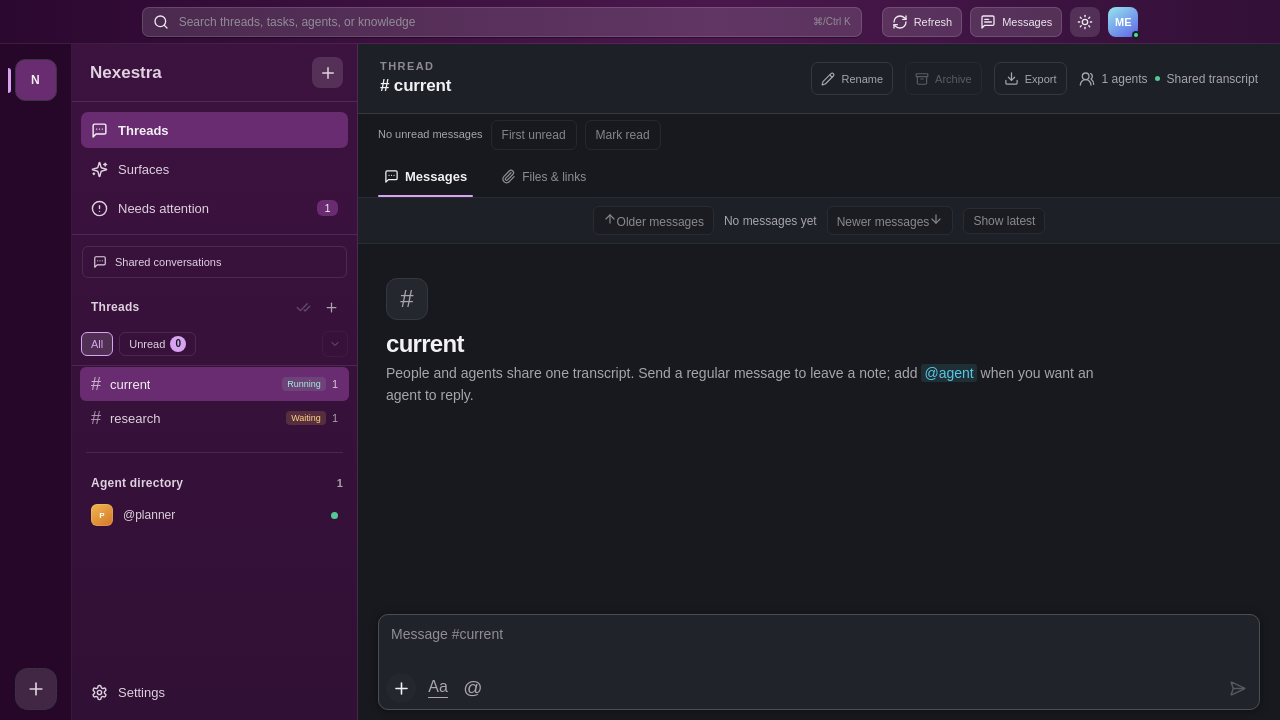
it: Workspace attention supervision › updates a background question while the selected thread streams and opens its thread
expect the button named "#research" shows "Waiting": met, box [80,401,349,435]
expect the button named "#current" shows "Running": met, box [80,367,349,401]
Click the button "Needs attention 1". click: (164,208)
box: [81,190,348,226]
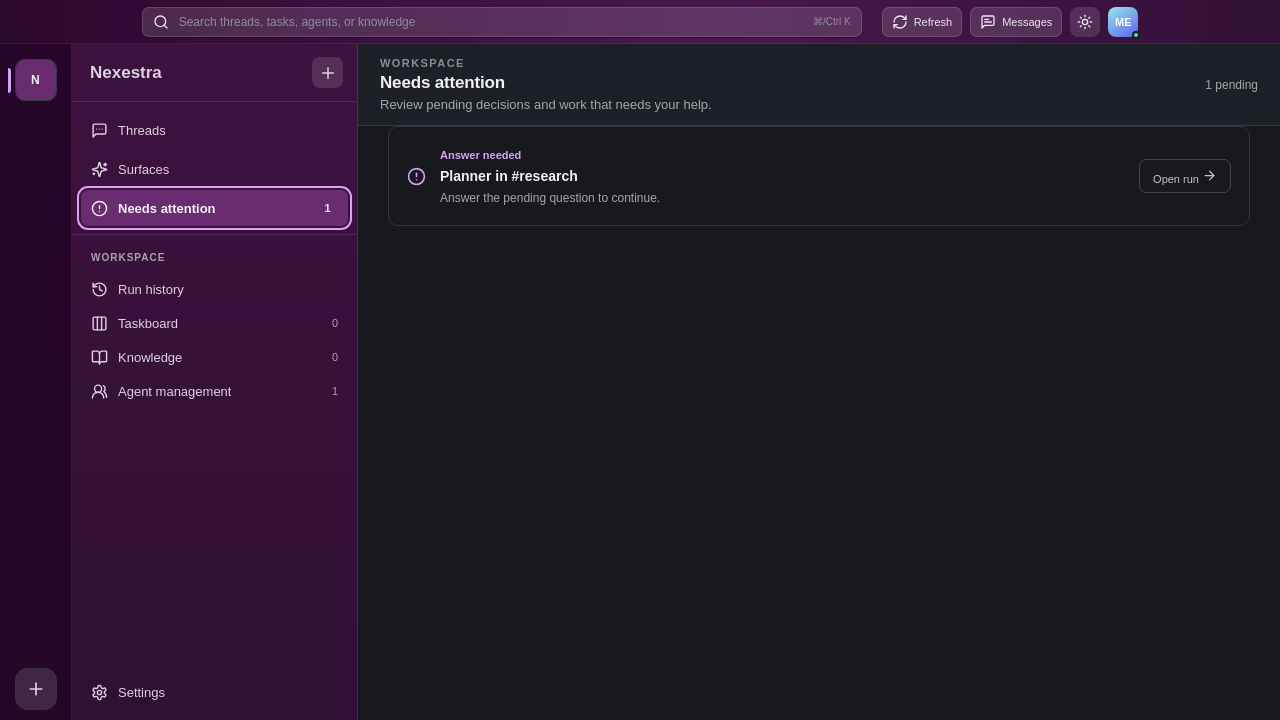
expect the text "Answer needed" is shown: met, box [440,149,521,161]
Click the button with aria-label "Open run: Planner in #research". click: (1185,176)
box: [1139,159,1231,193]
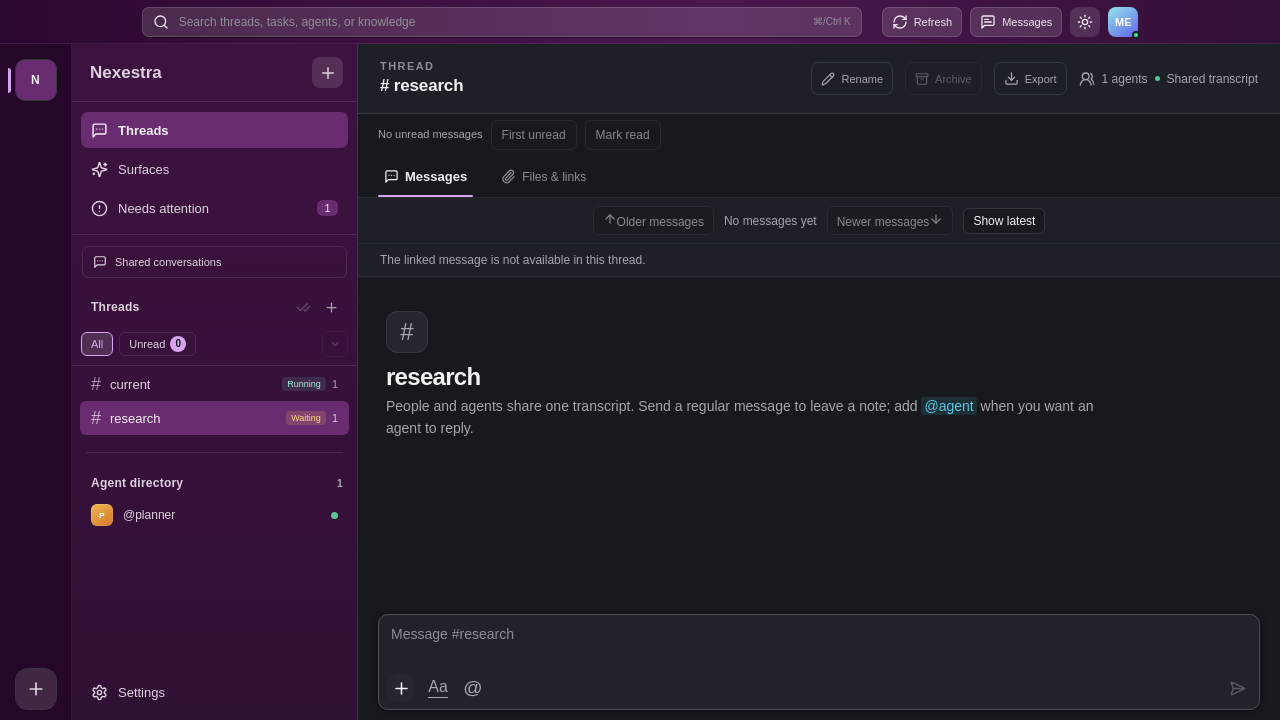
expect the dropdown labelled "Message" is shown: met, box [379,615,1259,669]
